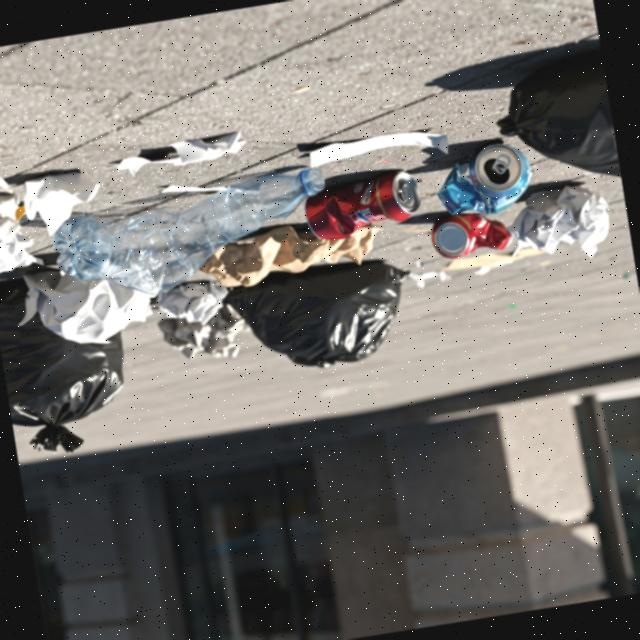aluminum: (303, 168, 423, 243), (441, 138, 536, 218)
paper: (512, 180, 616, 268), (0, 147, 31, 280)
plastic: (155, 158, 330, 254)
